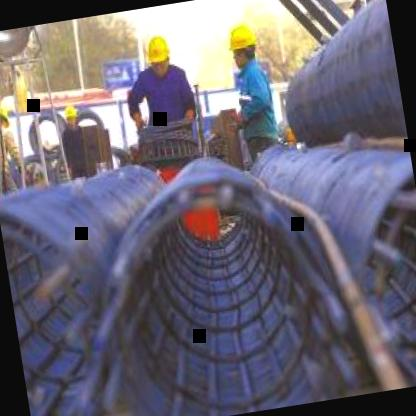helmet: (224, 14, 260, 70), (140, 24, 176, 79), (58, 100, 81, 130), (0, 101, 10, 130)
